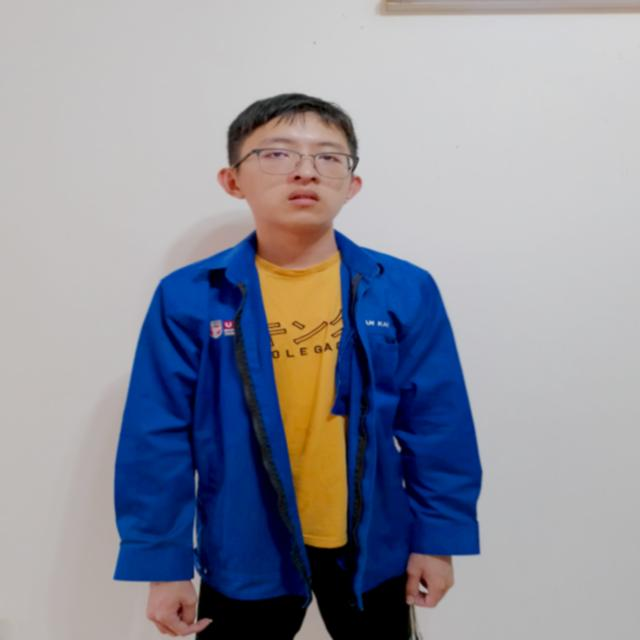person_with_labcoat: (114, 94, 481, 640)
